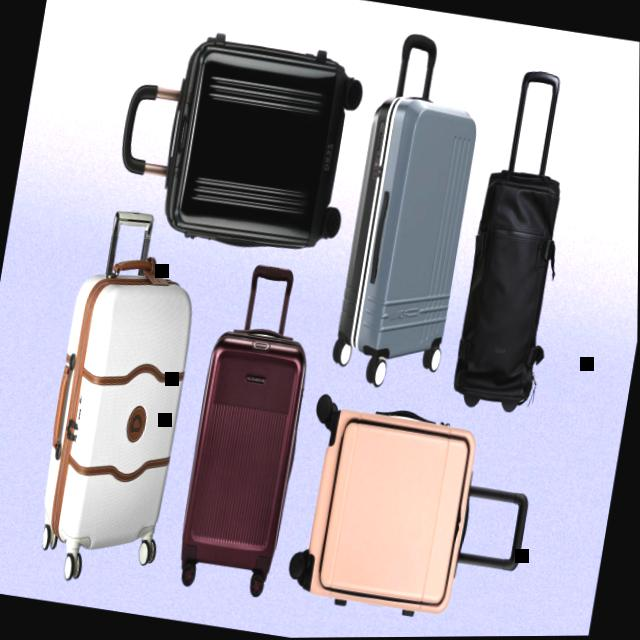luggage: (27, 243, 211, 585), (151, 23, 373, 272), (280, 390, 493, 633), (329, 83, 486, 388), (172, 318, 318, 597), (445, 155, 578, 423)
